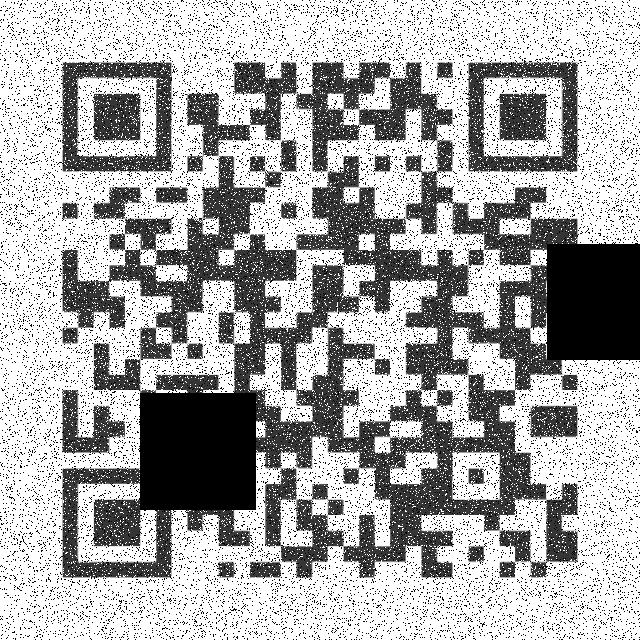QR_CODE: (46, 44, 592, 588)
